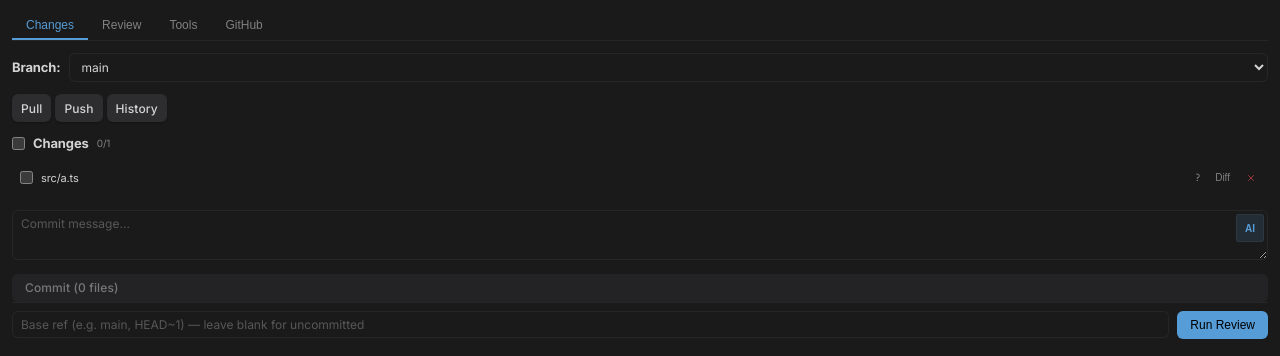
Scenario: GitPanel tabs › puts the Run Review control on the Changes tab, not the Review tab
Expected: the heading "Changes" is shown, left=33, top=134, right=89, bottom=154
Expected: the button "Run Review" is shown, left=1177, top=310, right=1268, bottom=338
Click the tab "Review". click: (122, 26)
box: left=88, top=12, right=155, bottom=40
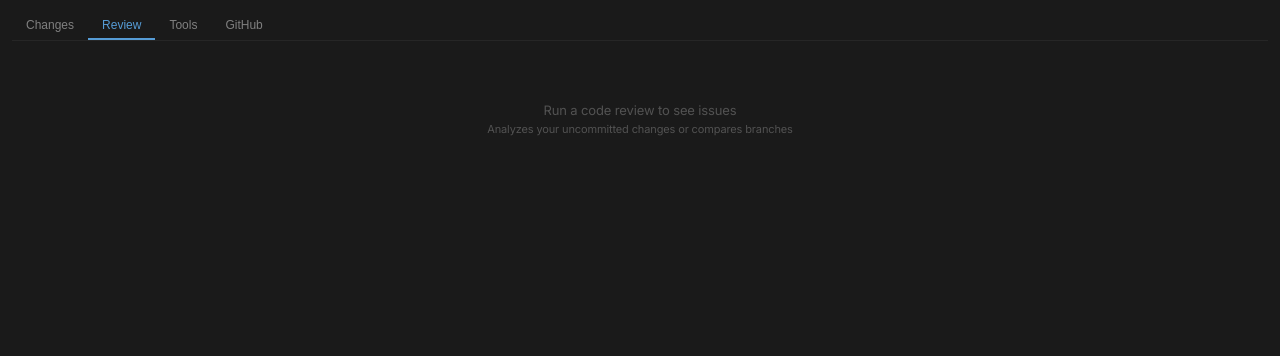
Expected: the field with placeholder "Base ref" is not shown
Now the button "Run Review" is gone
